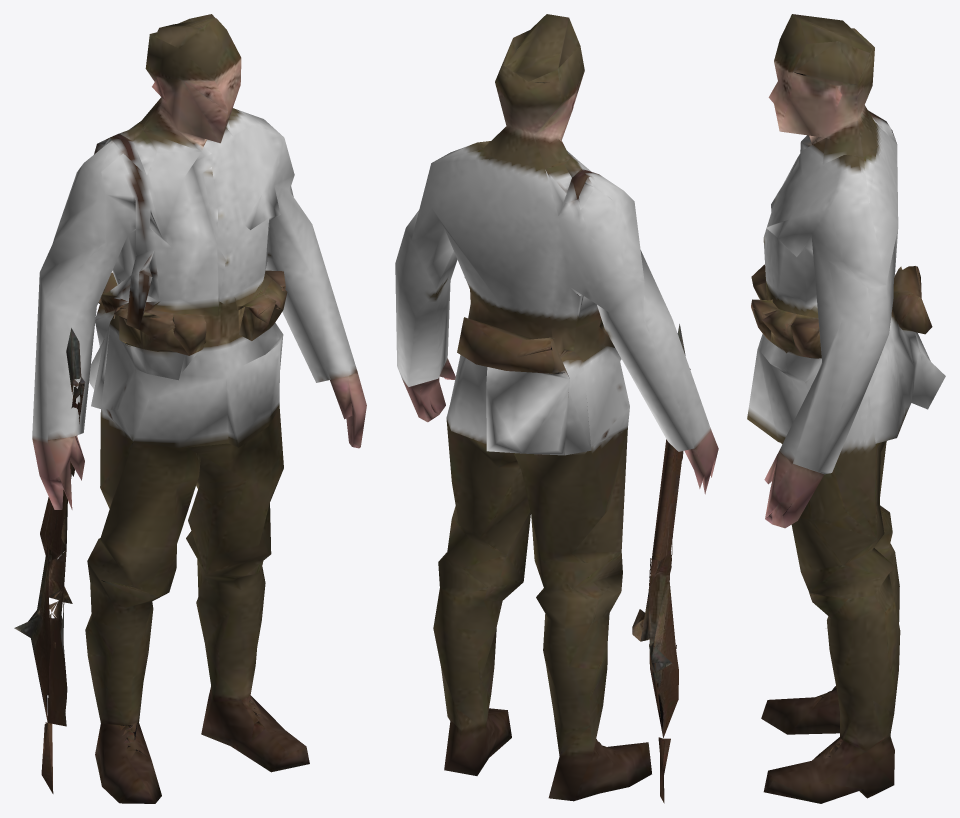
The model's file is rifleman.glb.
3 views of the same model, side by side, from view 1: azimuth 30°, elevation 25°; view 2: azimuth 150°, elevation 25°; view 3: azimuth 270°, elevation 25° (orthographic). The views are drawn at different scales.
Parts seen in each view (by area): view 1: rifleman; view 2: rifleman; view 3: rifleman.
Boxes of the visible parts, box(x1,y1,x2,y2) form: rifleman: box(14, 14, 366, 803); rifleman: box(395, 14, 718, 803); rifleman: box(747, 14, 945, 803).
Size of the model in its own units: 0.7789 by 1.8 by 0.4356.
Materials: 3 (3 with a texture image).
